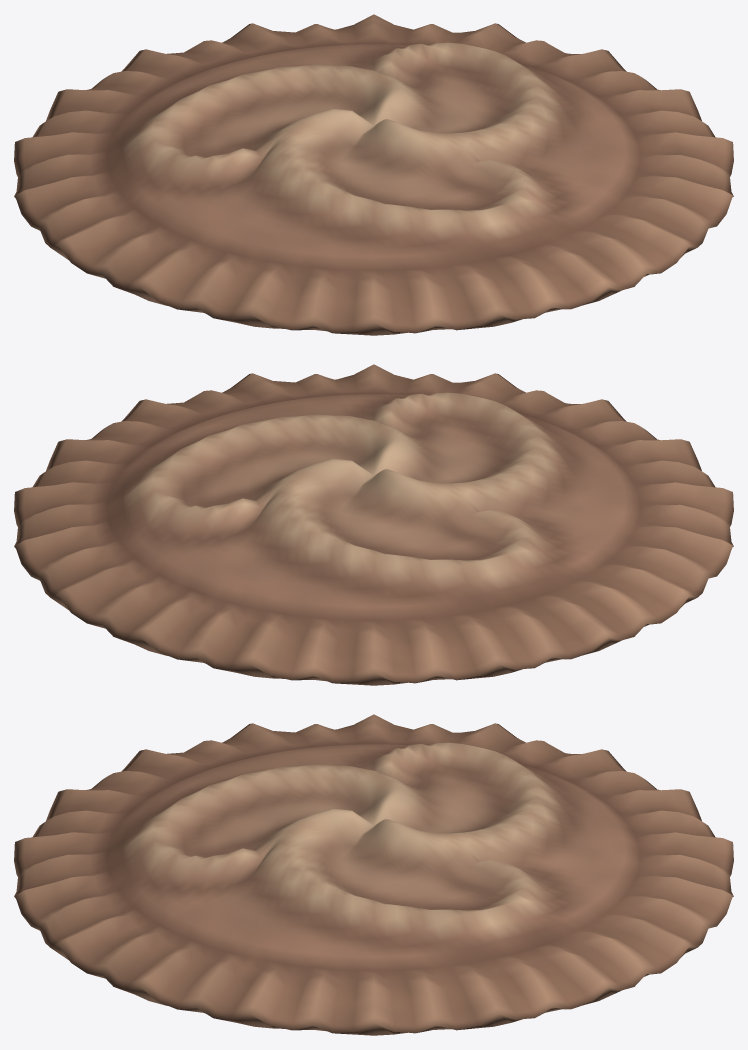
The model's file is Tribrachidium.fbx.
3 views of the same model, one above another, from view 1: azimuth 30°, elevation 25°; view 2: azimuth 150°, elevation 25°; view 3: azimuth 270°, elevation 25° (orthographic).
Parts seen in each view (by area): view 1: Tribrachidium; view 2: Tribrachidium; view 3: Tribrachidium.
Boxes of the visible parts, <box> form: Tribrachidium: <box>14,14,733,335</box>; Tribrachidium: <box>14,364,733,685</box>; Tribrachidium: <box>14,714,733,1035</box>.
Size of the model in its own units: 1.25 by 0.1498 by 1.24.
